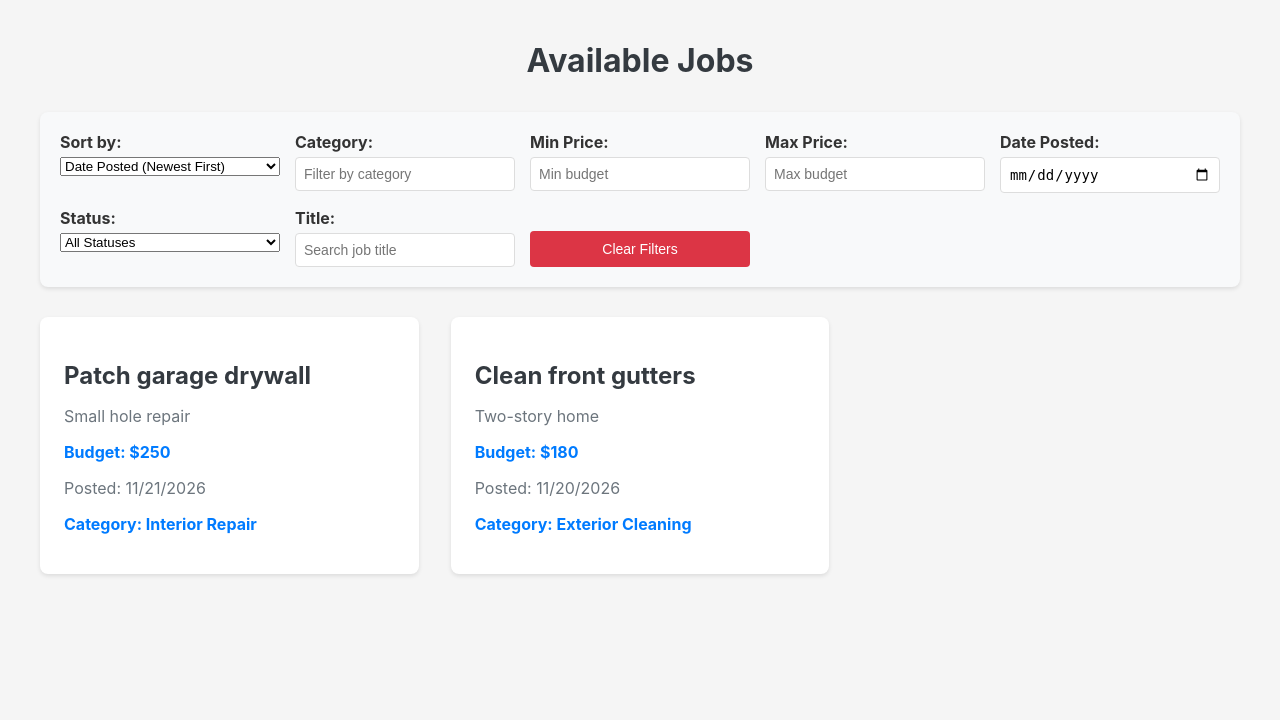
FairWork Frontend (Vite + React 18 + TypeScript) › filters jobs and resets all filters including status
expect the heading "Clean front gutters" is shown: met, box [475,361,696,390]
expect the heading "Patch garage drywall" is shown: met, box [64,361,311,390]
Select "Open" in the dropdown labelled "Status:": (170, 243) [60,233,280,252]
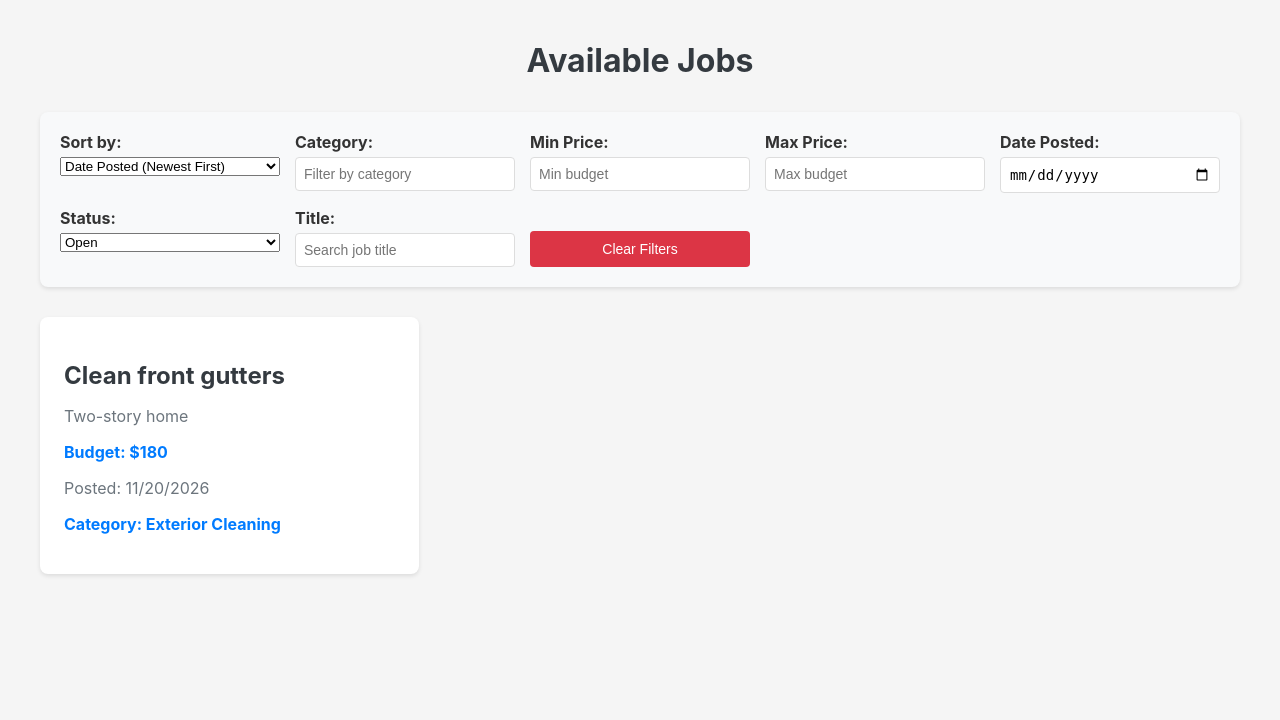
expect the heading "Clean front gutters" is shown: met, box [64,361,285,390]
expect the heading "Patch garage drywall" is gone: met
Click the button "Clear Filters": (640, 249) [530,231,750,267]
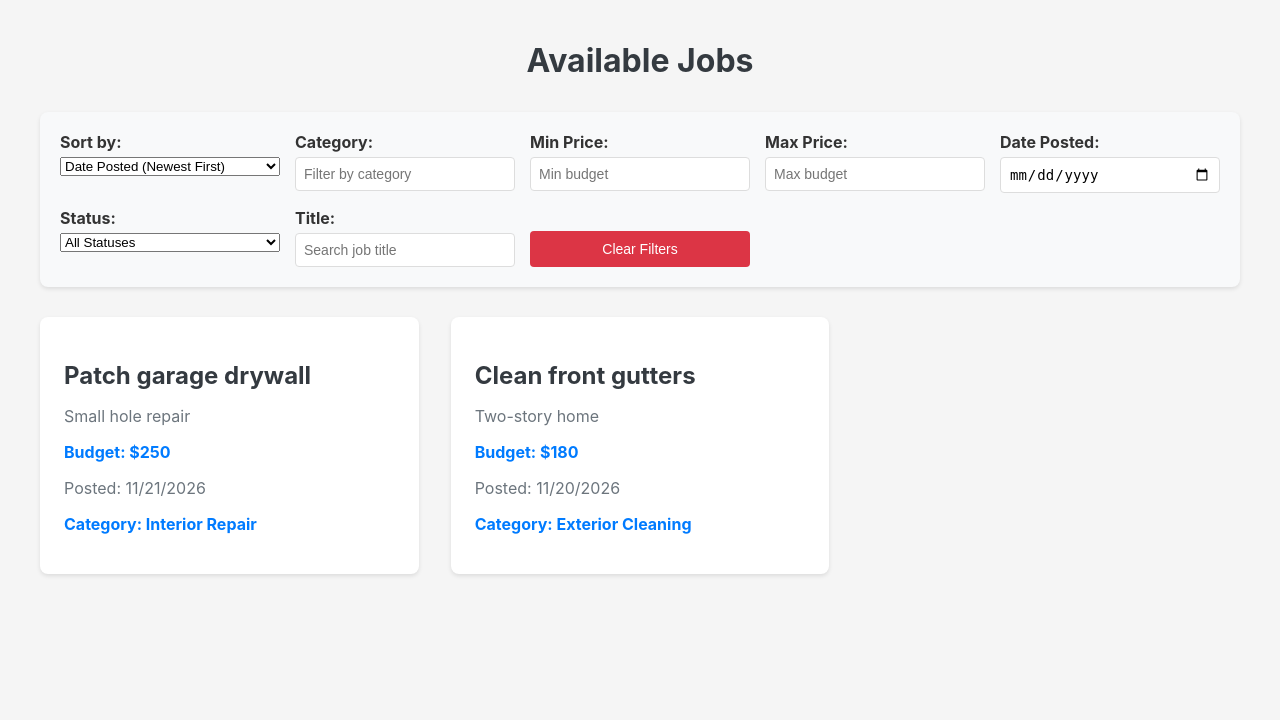
expect the heading "Patch garage drywall" is shown: met, box [64,361,311,390]
